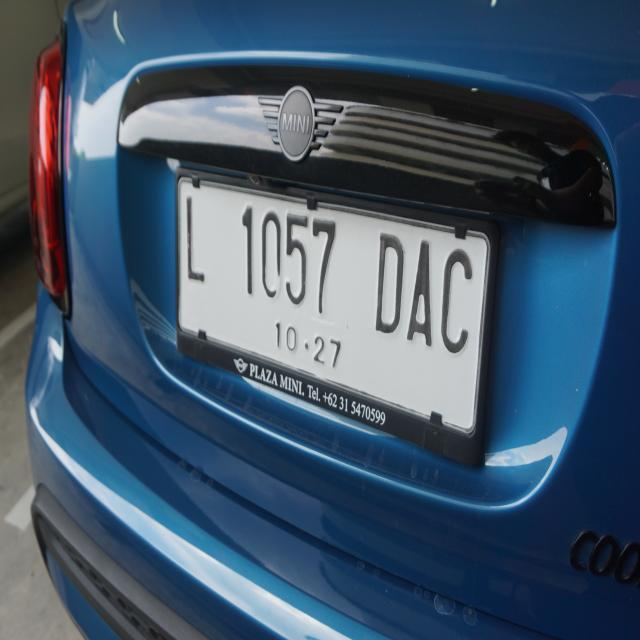0: (260, 210, 285, 304)
1: (233, 197, 261, 308)
5: (284, 200, 310, 314)
7: (309, 205, 335, 330)
A: (405, 227, 438, 349)
C: (434, 238, 474, 360)
D: (368, 222, 403, 338)
L: (178, 184, 212, 303)
